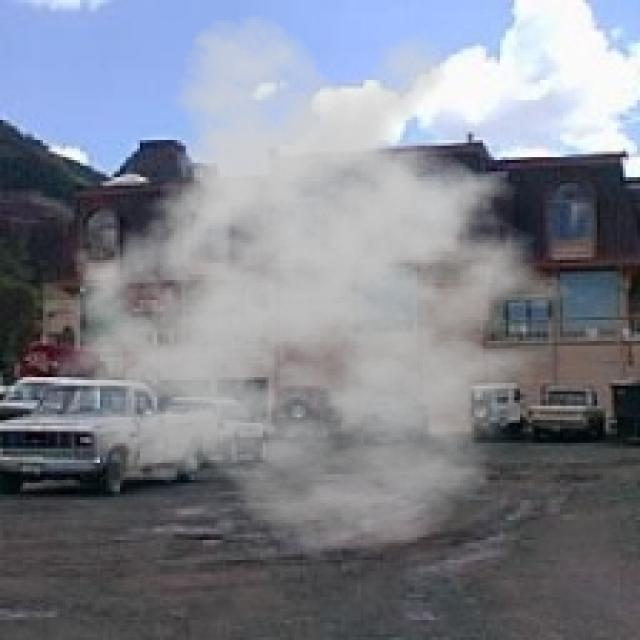smoke: (37, 12, 597, 554)
